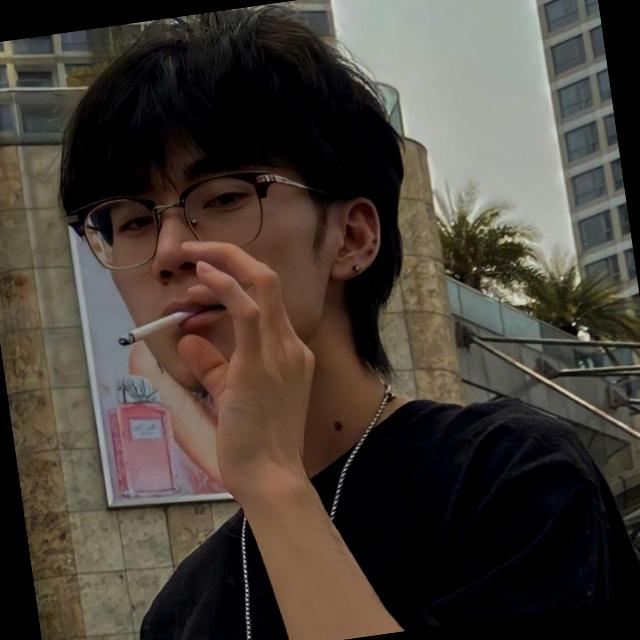cigarette: (105, 302, 207, 358)
